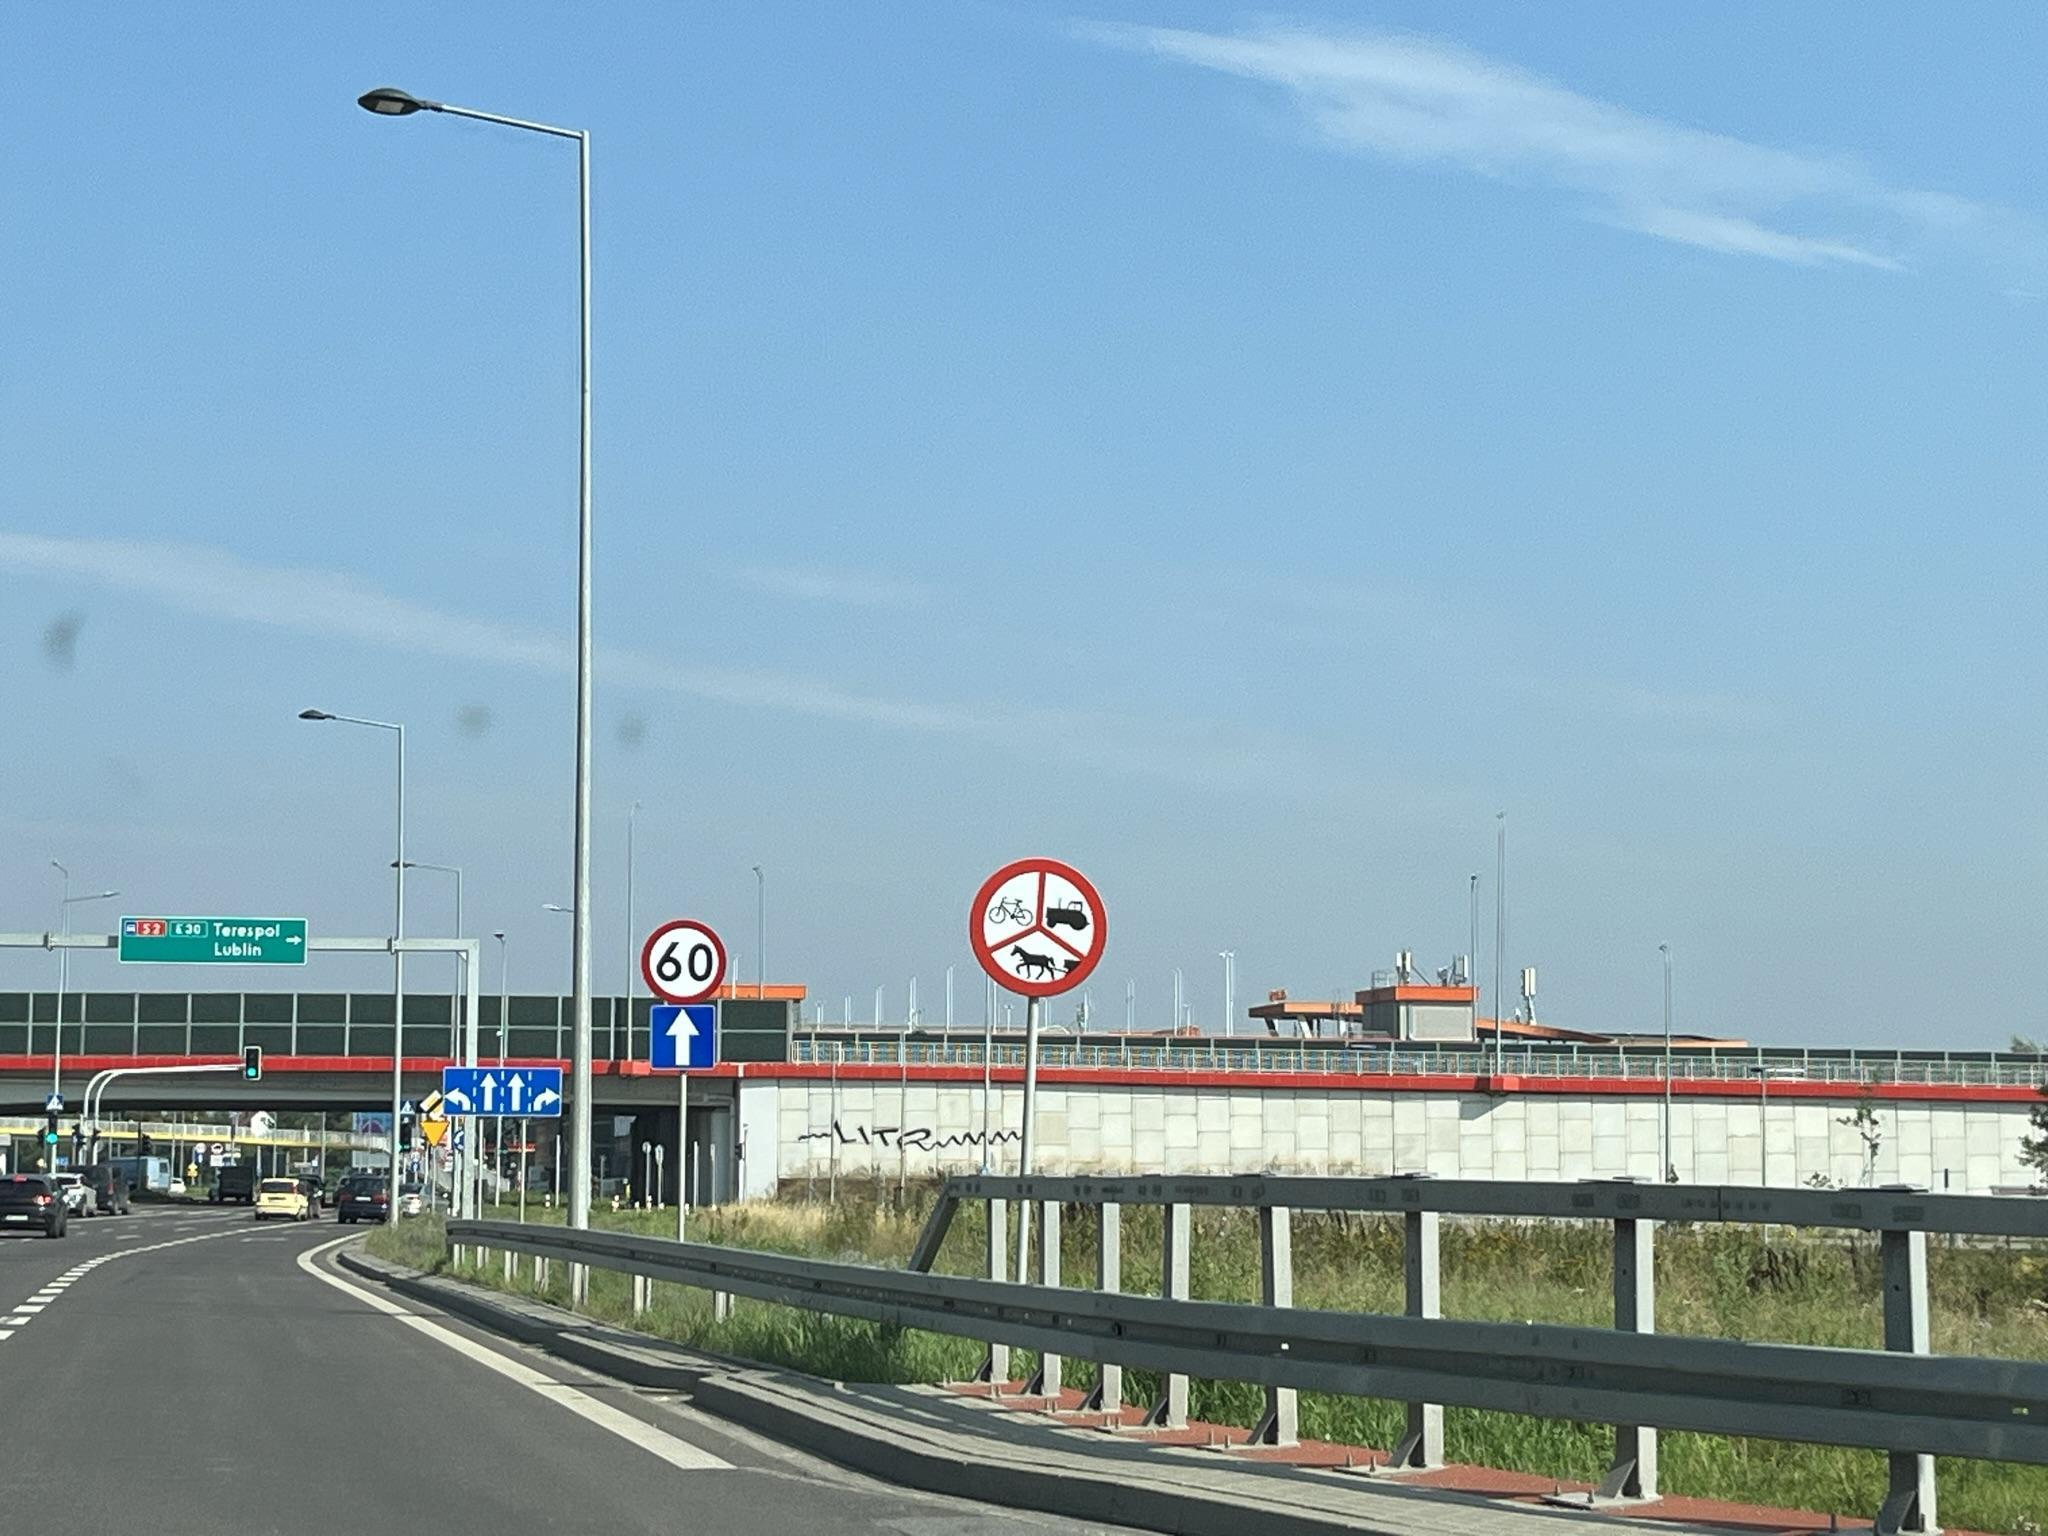direction-city: (118, 913, 310, 968)
information: (650, 1005, 718, 1071), (419, 1091, 448, 1121), (47, 1094, 63, 1112)
other: (443, 1065, 564, 1118)
prohibitory: (968, 857, 1108, 1000), (639, 916, 729, 1005)
warning: (419, 1120, 448, 1147)
